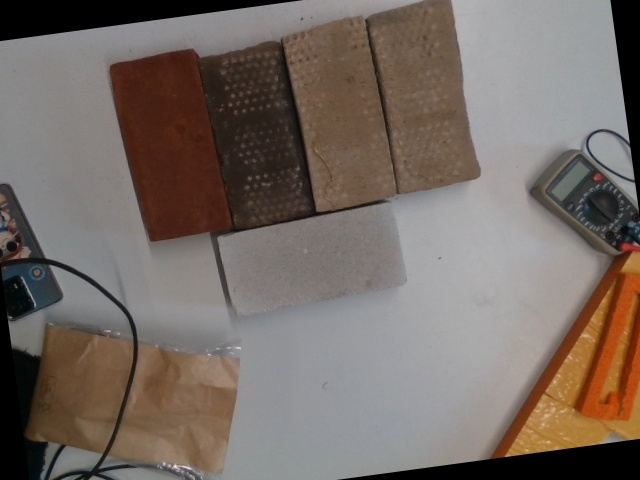brick: (216, 201, 408, 318), (370, 1, 481, 198), (286, 18, 397, 215), (113, 50, 227, 240), (199, 40, 312, 231)
